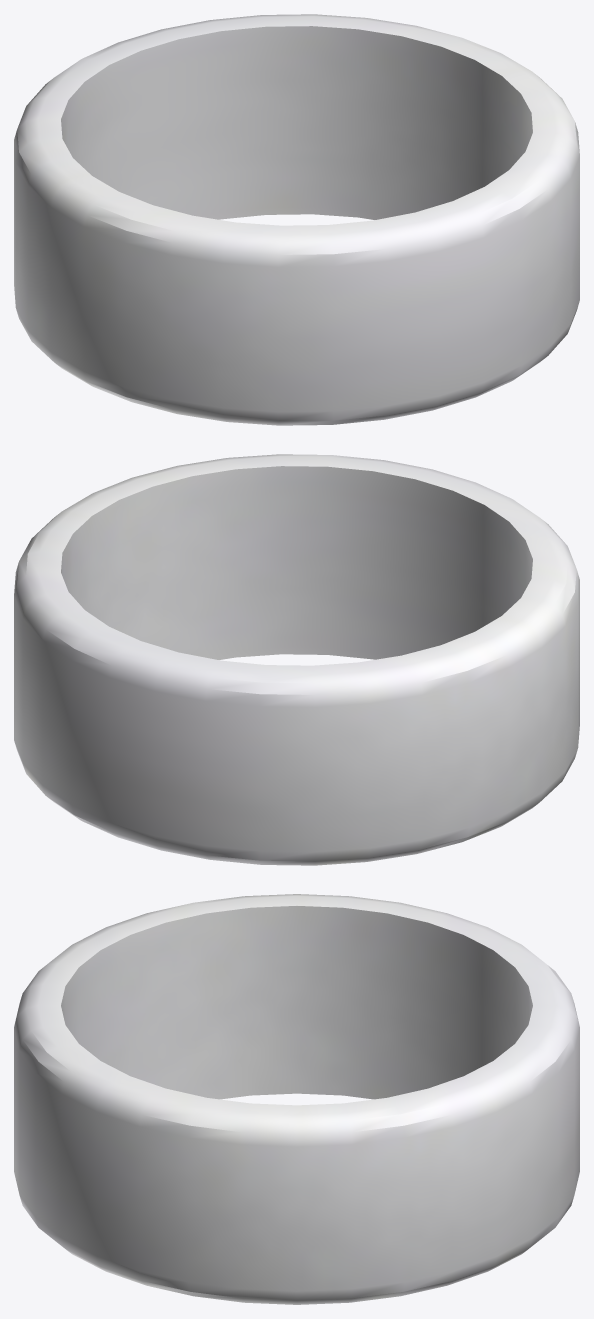
Rendered from shrimp_paste_bottom_nap.fbx.
The picture shows the model from 3 angles, top to bottom: view 1: azimuth 30°, elevation 25°; view 2: azimuth 150°, elevation 25°; view 3: azimuth 270°, elevation 25°; orthographic projection.
Parts seen in each view (by area): view 1: shrimp_paste_bottom_nap; view 2: shrimp_paste_bottom_nap; view 3: shrimp_paste_bottom_nap.
Part boxes in pixels (x1,y1,x2,y2): shrimp_paste_bottom_nap: (14, 14, 579, 425); shrimp_paste_bottom_nap: (14, 454, 579, 865); shrimp_paste_bottom_nap: (14, 894, 579, 1304).
Bounding box in the file's own units: 7.21 × 2.64 × 7.21.
Materials: 1 (1 with a texture image).
